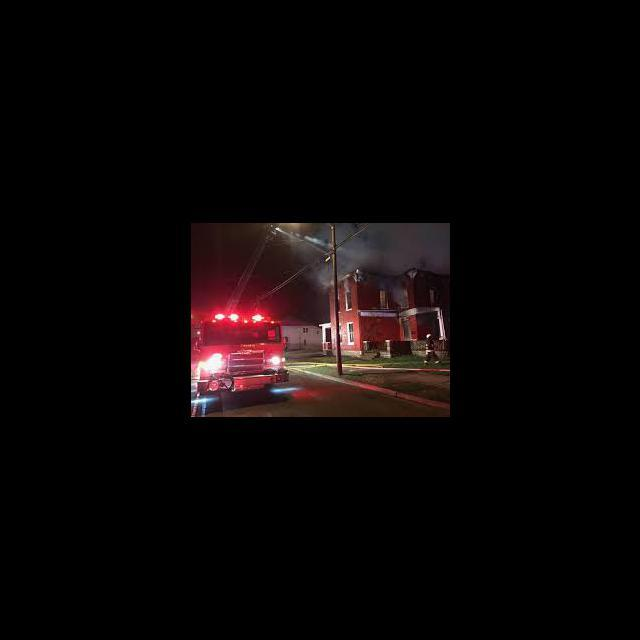Smoke: (372, 225, 448, 267), (387, 272, 408, 306)
